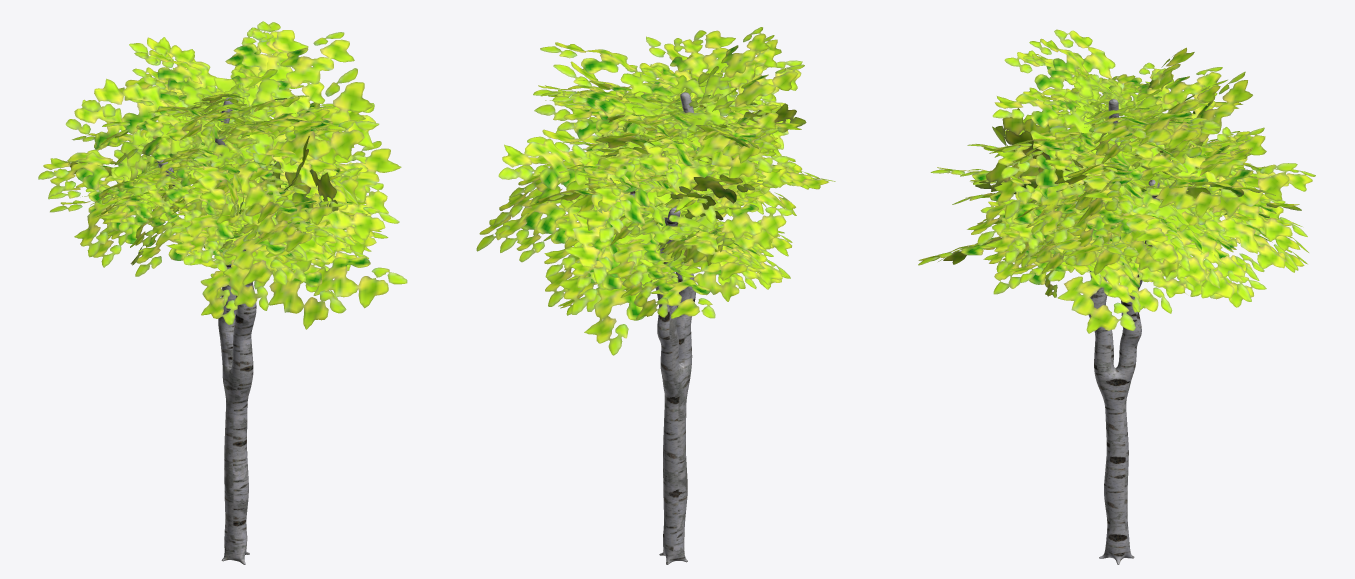
The model's file is Birch wood_3.fbx.
The picture shows the model from 3 angles, left to right: view 1: azimuth 30°, elevation 25°; view 2: azimuth 150°, elevation 25°; view 3: azimuth 270°, elevation 25°; orthographic projection. The views are drawn at different scales.
Parts seen in each view (by area): view 1: Cube.004; view 2: Cube.004; view 3: Cube.004.
Boxes of the visible parts, x1,y1,x2,y2 form: Cube.004: (38, 21, 407, 564); Cube.004: (476, 27, 835, 564); Cube.004: (918, 29, 1315, 564).
Bounding box in the file's own units: 1476 × 2201 × 1806.
